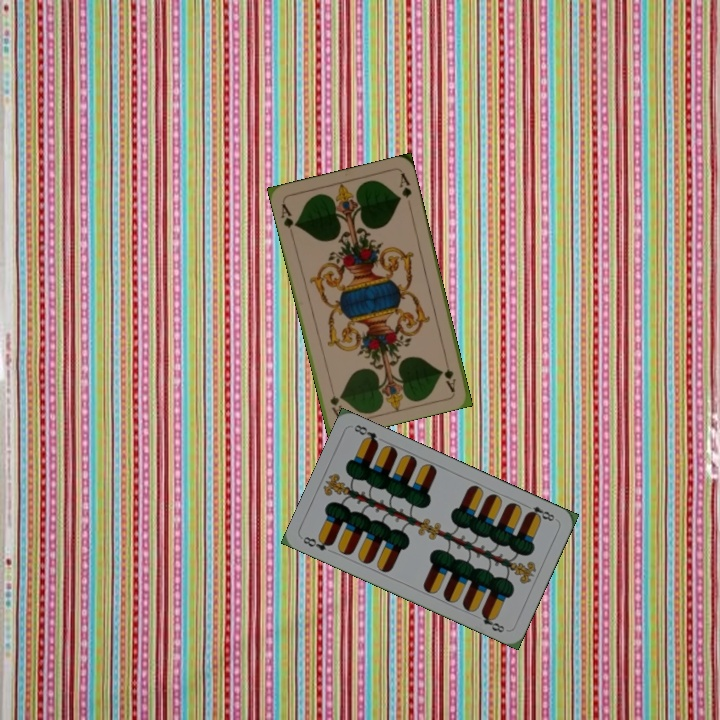E8: (521, 500, 557, 524), (299, 532, 336, 553)
GA: (277, 199, 300, 239), (440, 354, 459, 394)
